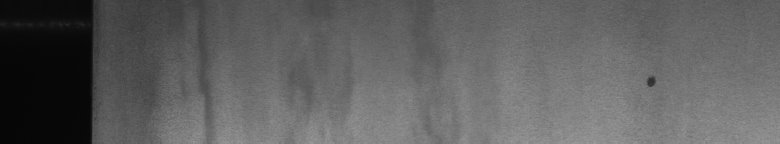fi: (640, 69, 660, 96)
